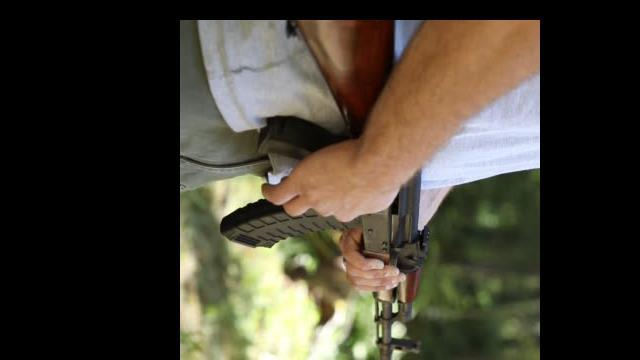larga: (220, 21, 432, 360)
